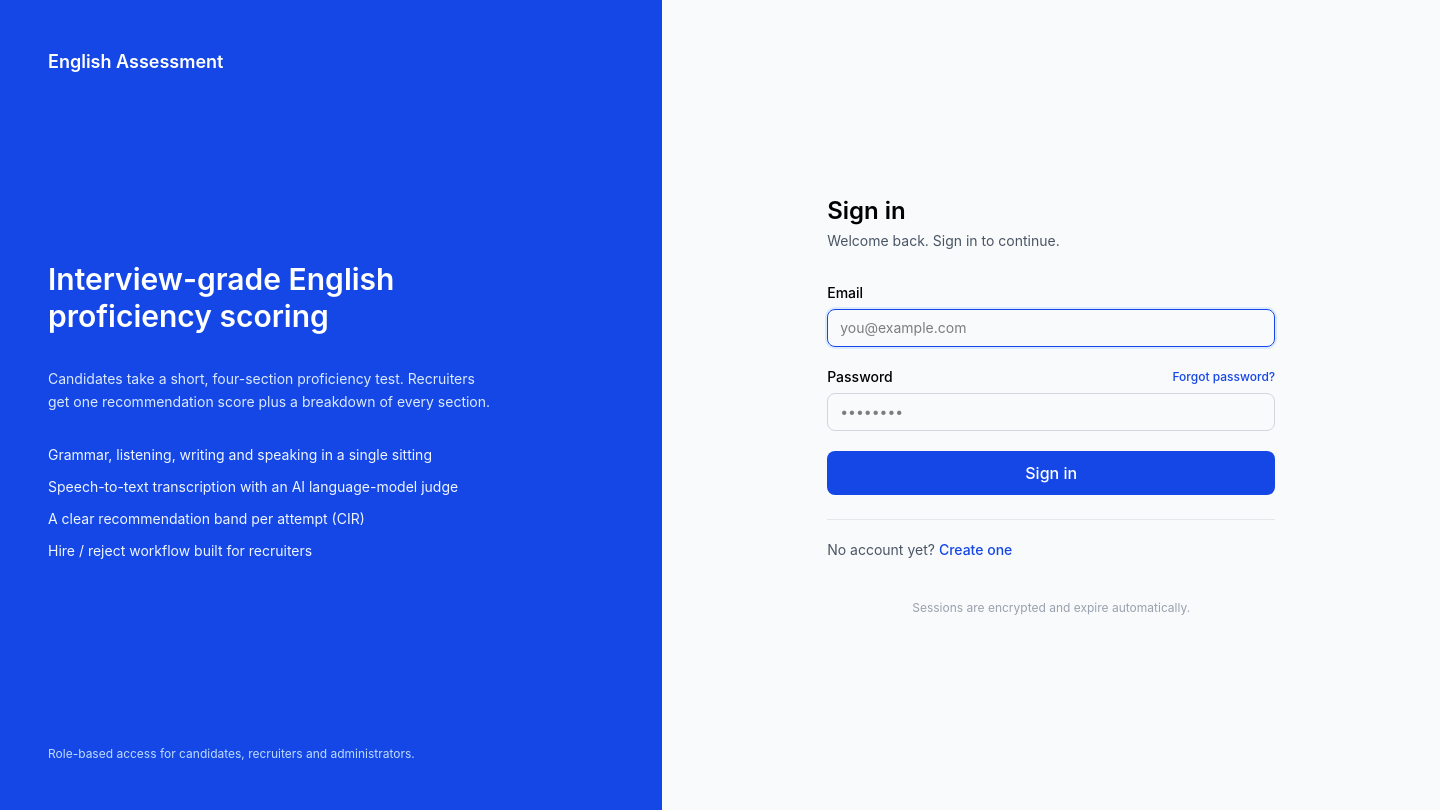
Test: a failed login shows the error
The image size is (1440, 810).
Type "a@b.com" into the field labelled "Email" at (1051, 328), box left=827, top=308, right=1275, bottom=346
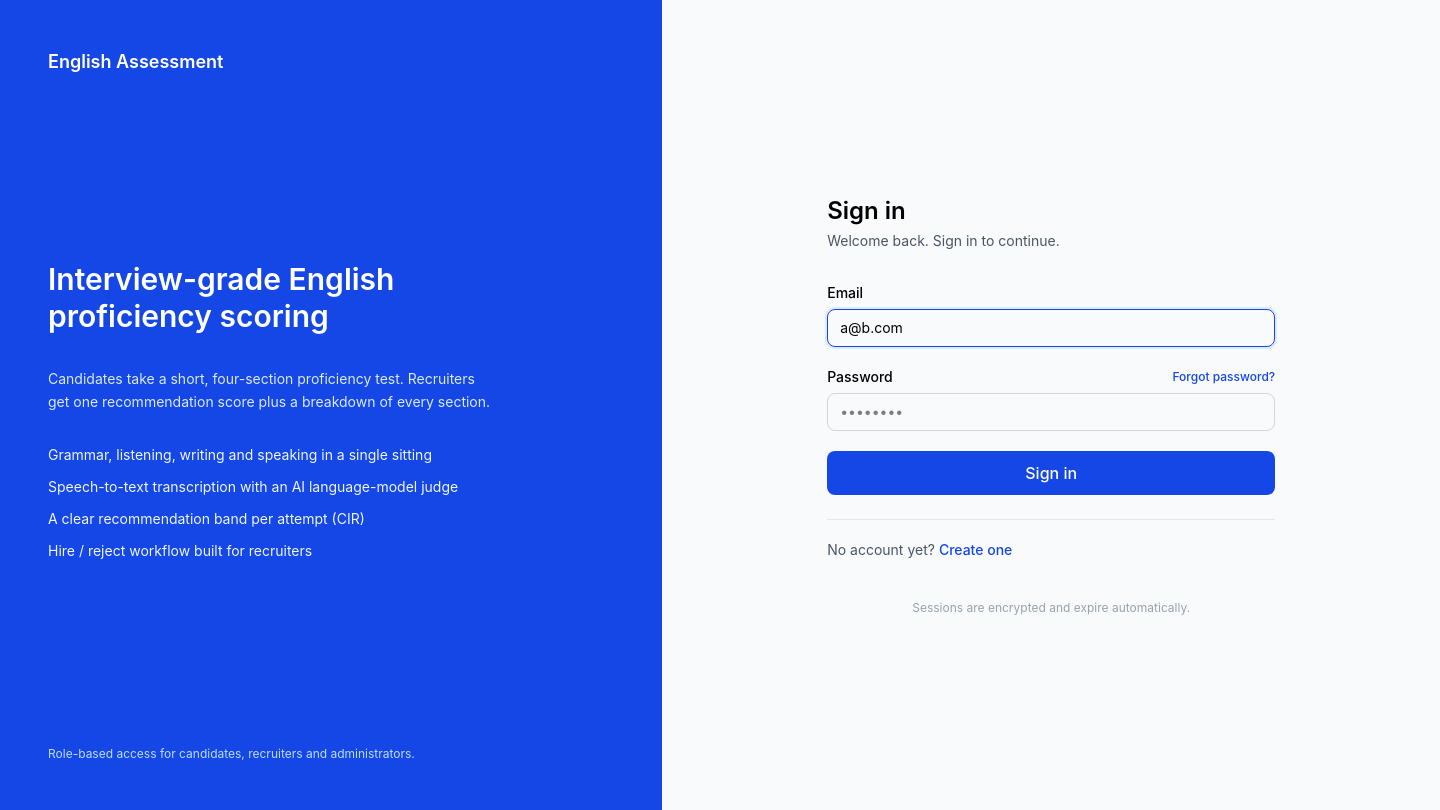
Type "wrong" into the password field labelled "Password" at (1051, 412), box left=827, top=392, right=1275, bottom=430
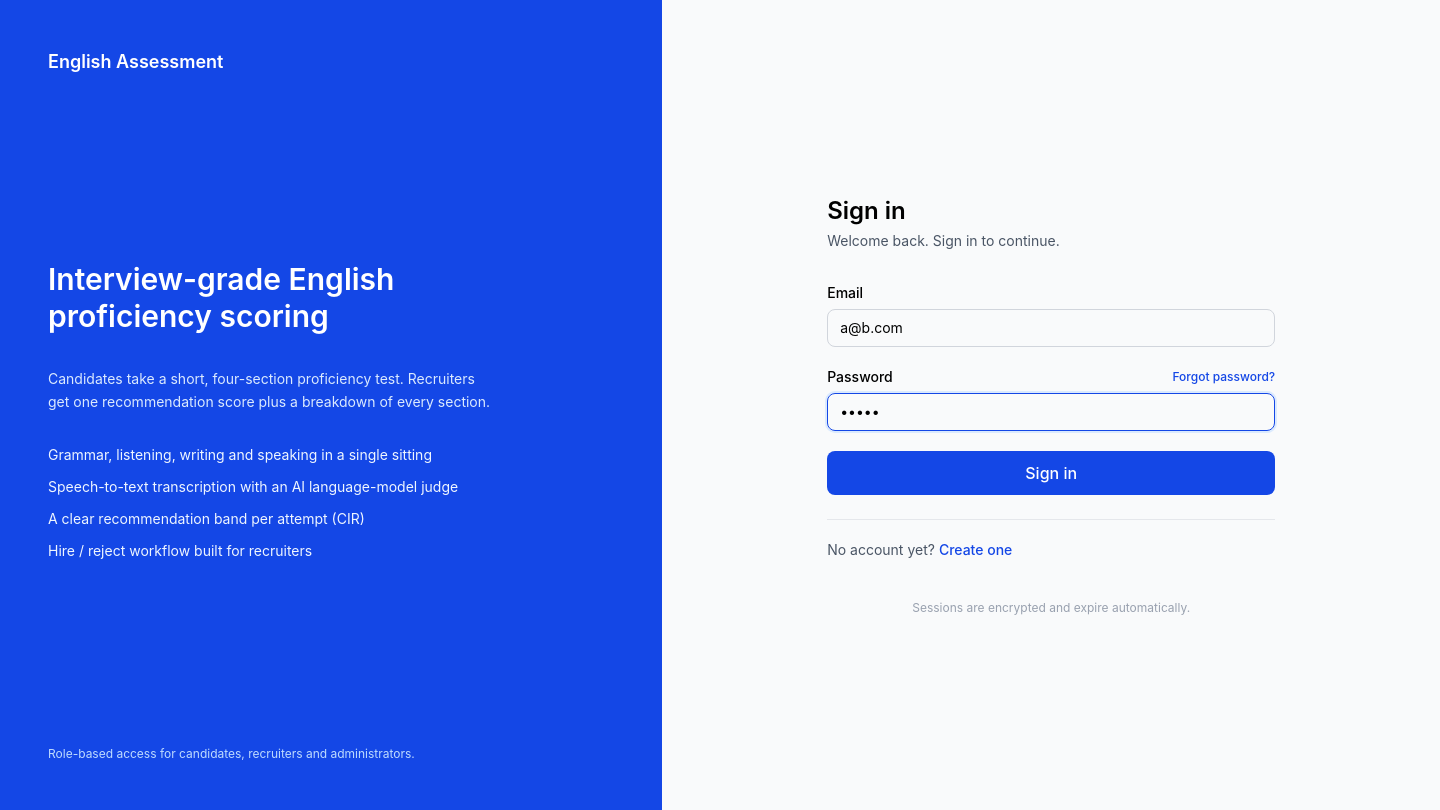
Click the button "Sign in" at (1051, 472), box left=827, top=450, right=1275, bottom=494
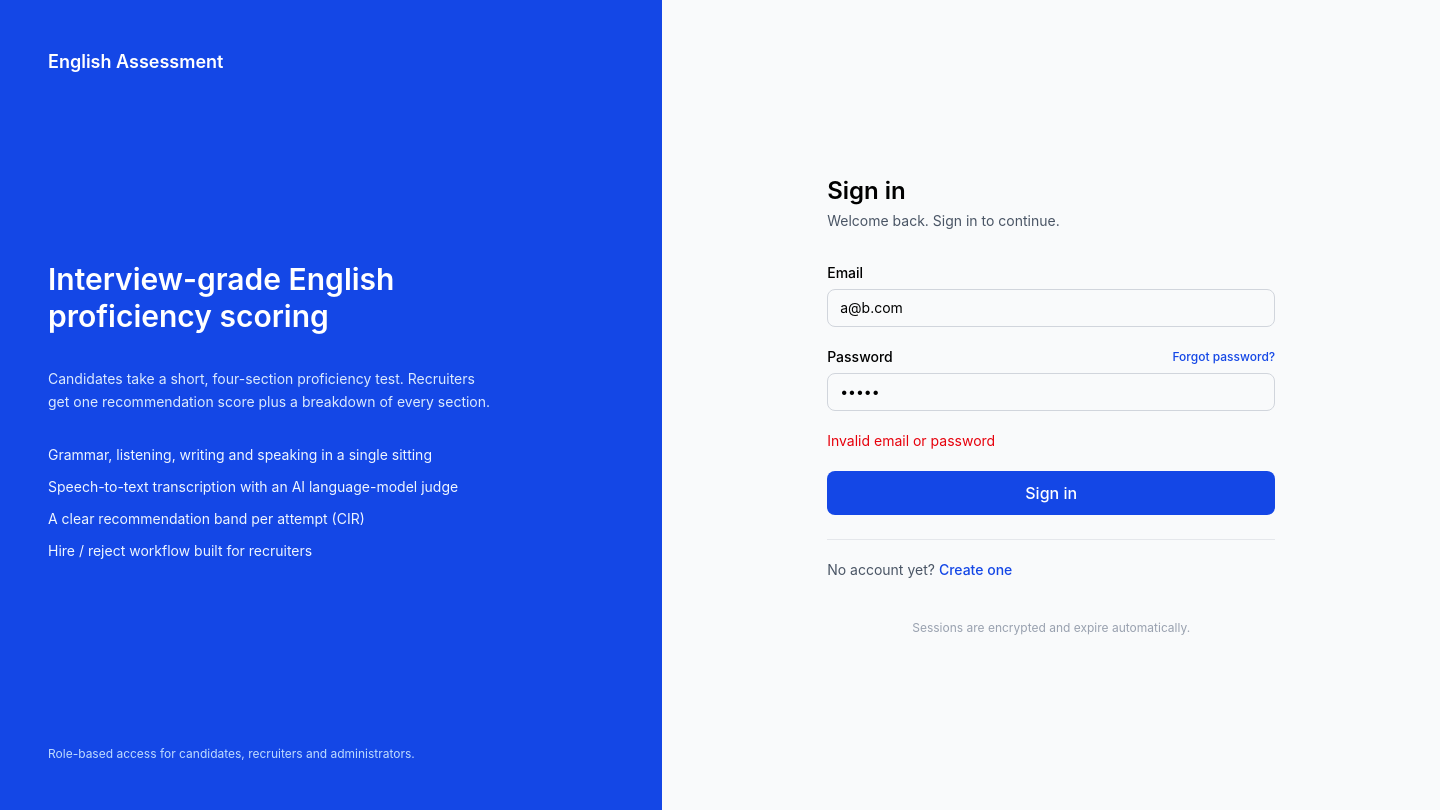
Expected: the text "Invalid email or password" is shown, left=827, top=432, right=995, bottom=448
